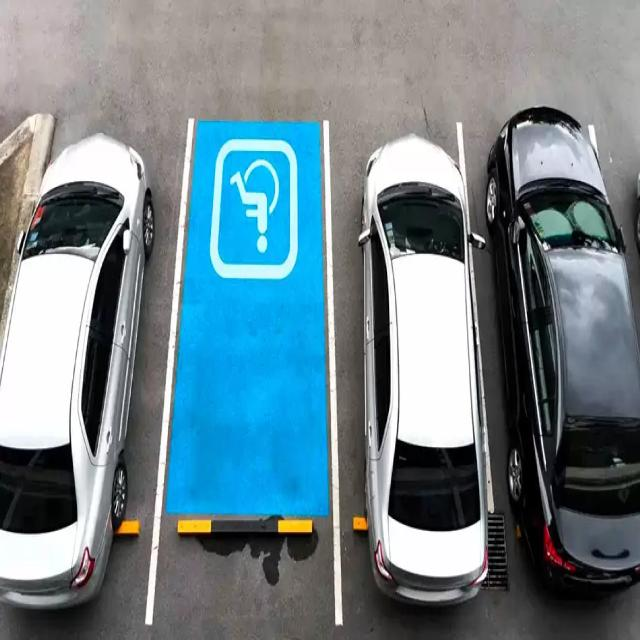discapacitados: (144, 101, 341, 638)
ocupado: (0, 105, 193, 631), (326, 99, 503, 636), (458, 96, 639, 611)
